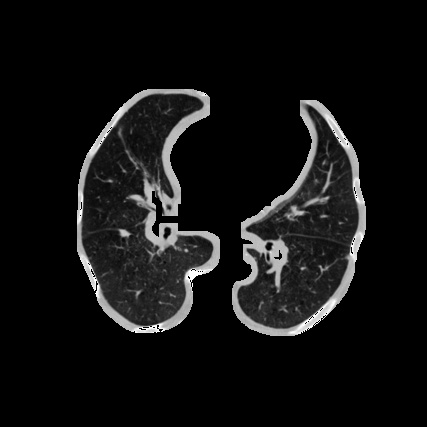PN: (120, 229, 128, 237)
